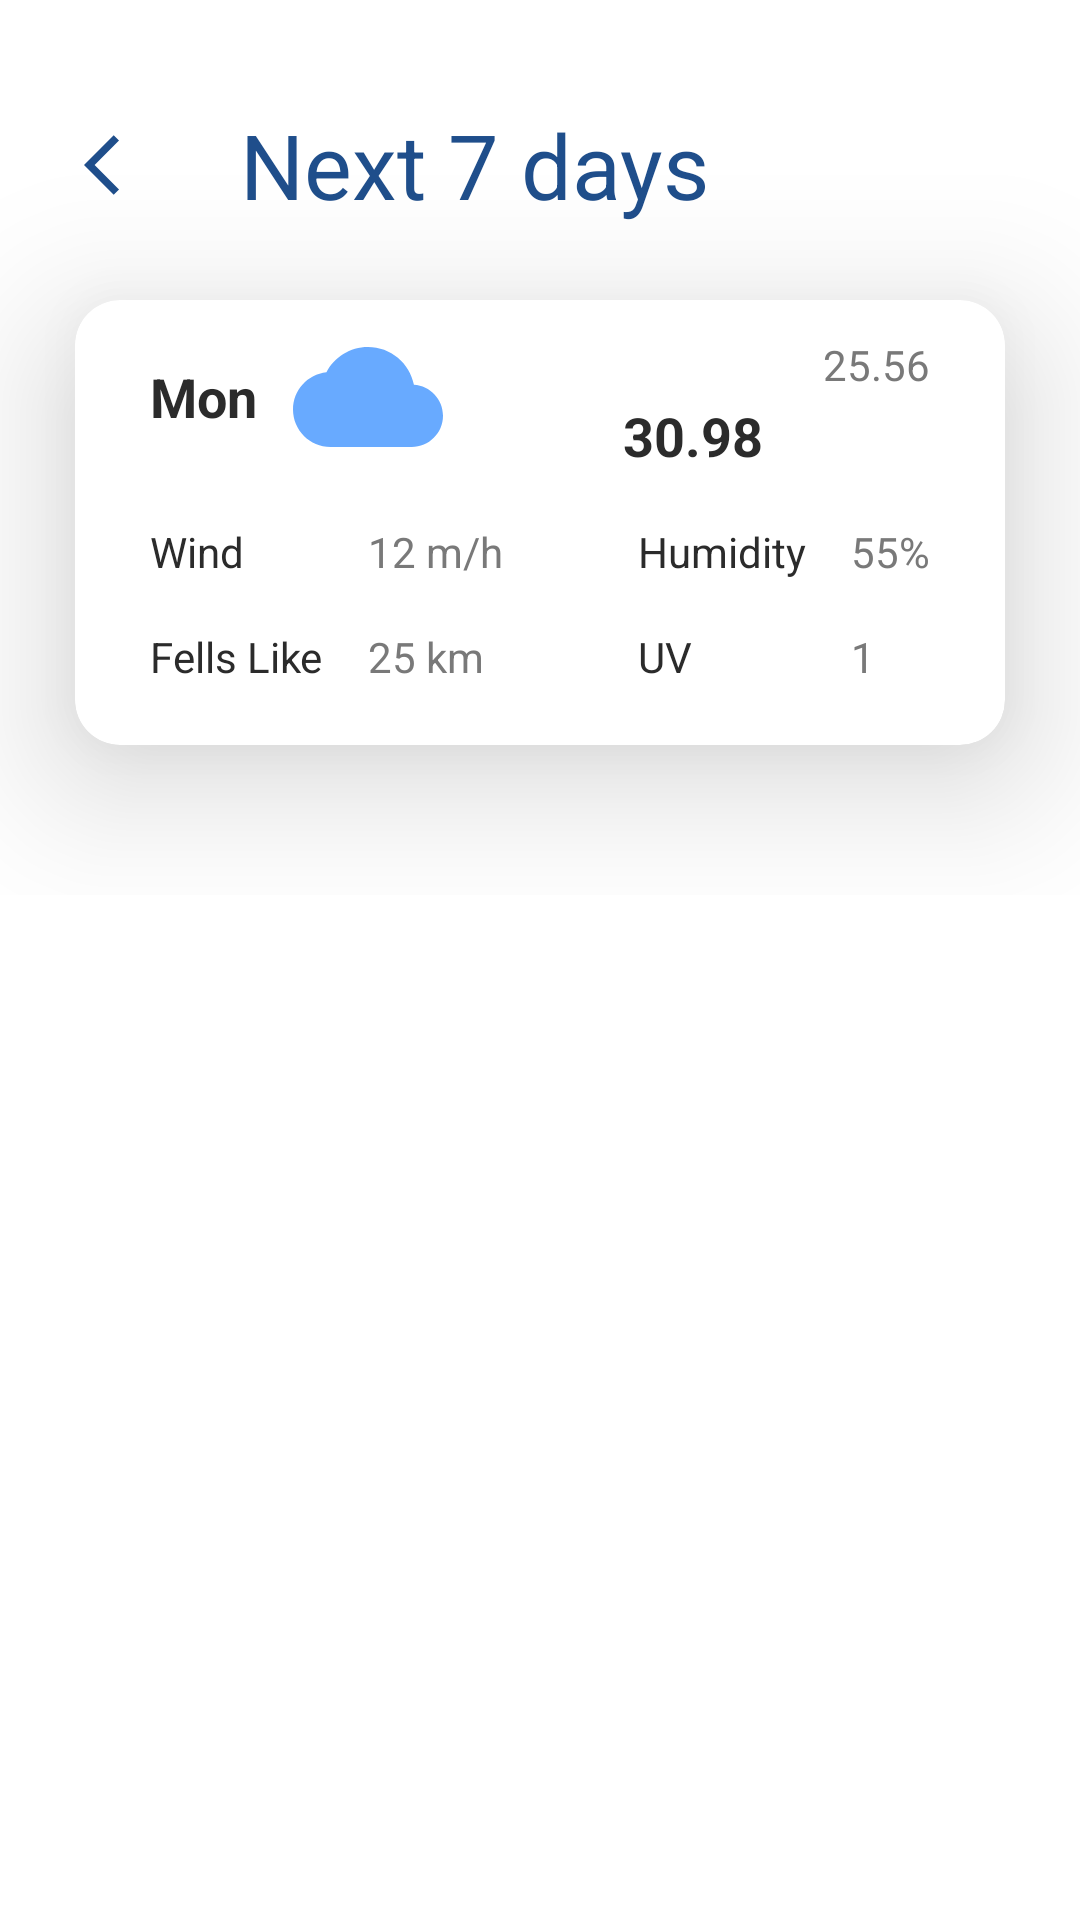

Screen size 1080*1920. Icon name, then its center in pixels as (x,y):
arrow back: (101,165)
cloud: (368,397)
